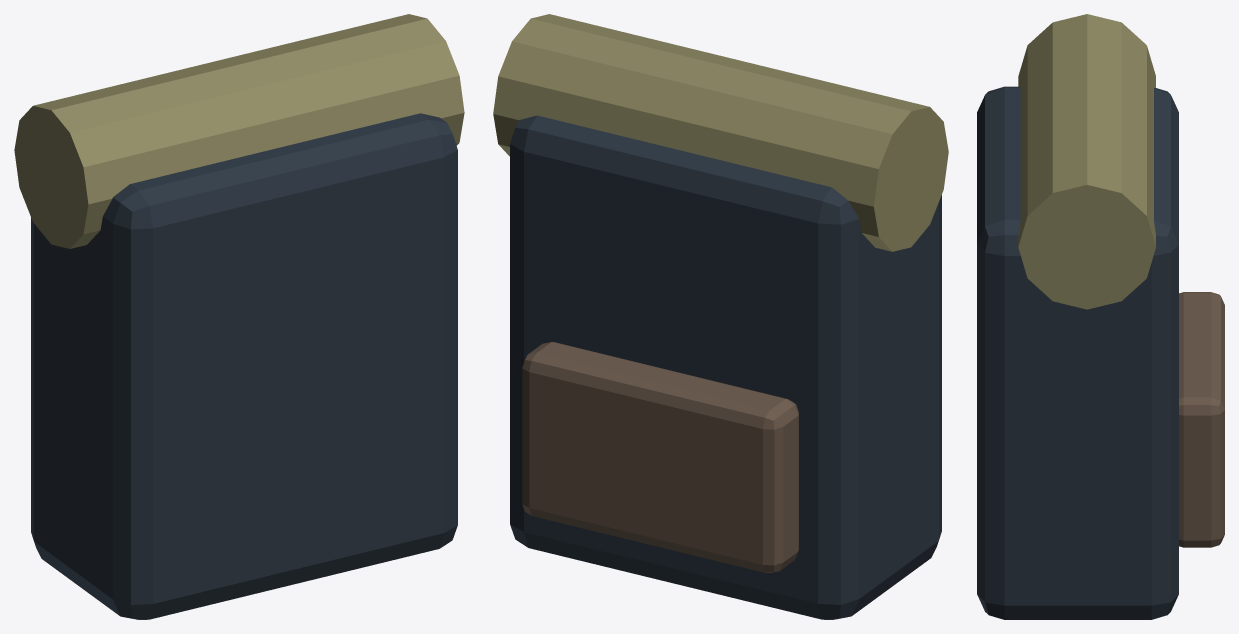
Rendered from back_bag.glb.
The picture shows the model from 3 angles, left to right: view 1: azimuth 30°, elevation 25°; view 2: azimuth 150°, elevation 25°; view 3: azimuth 270°, elevation 25°; orthographic projection. The views are drawn at different scales.
Parts seen in each view (by area): view 1: back_bag; view 2: back_bag; view 3: back_bag.
Boxes of the visible parts, x1,y1,x2,y2 form: back_bag: [14, 14, 464, 619]; back_bag: [493, 14, 948, 619]; back_bag: [977, 14, 1224, 619].
Size of the model in its own units: 0.44 by 0.545 by 0.27.
